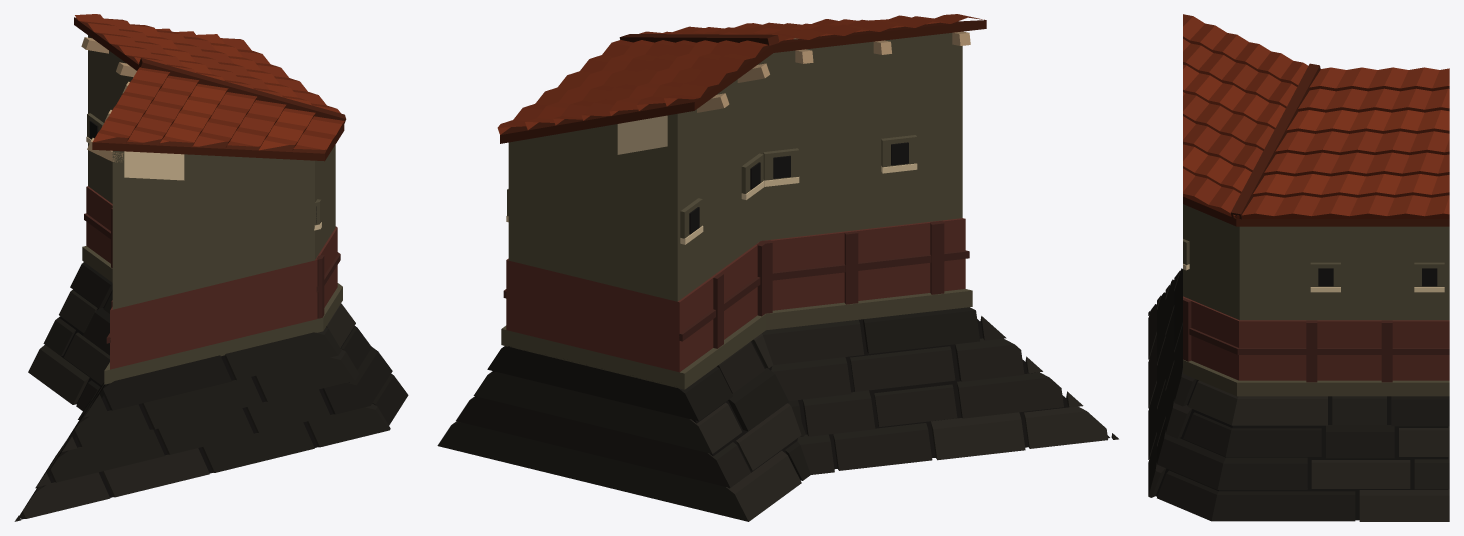
The model's file is VerJoint06.glb.
3 renders of one model, left to right at view 1: azimuth 30°, elevation 25°; view 2: azimuth 150°, elevation 25°; view 3: azimuth 270°, elevation 25°, orthographic. The views are drawn at different scales.
Parts seen in each view (by area): view 1: VerJoint06_mortar; view 2: VerJoint06_mortar; view 3: VerJoint06_mortar.
Part boxes in pixels (x1,y1,x2,y2): VerJoint06_mortar: (14, 14, 408, 521); VerJoint06_mortar: (437, 14, 1118, 521); VerJoint06_mortar: (1148, 14, 1449, 521).
Bounding box in the file's own units: 7.16 × 5.61 × 4.36.
